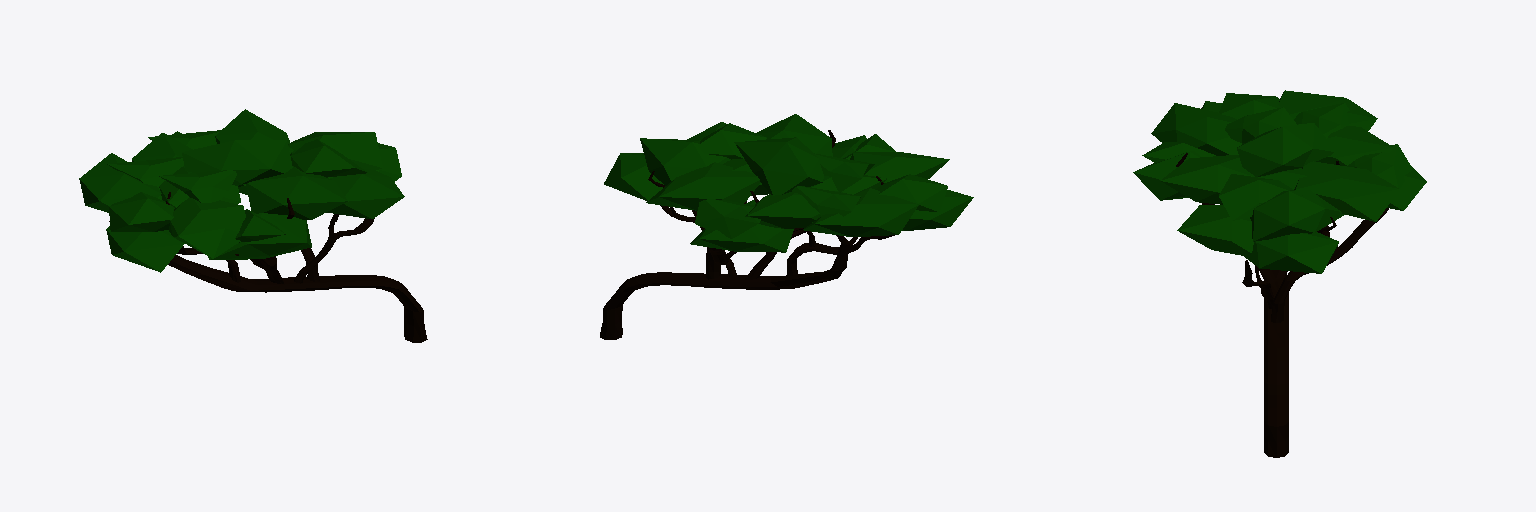
The model's file is tree_model2.obj.
3 renders of one model, left to right at view 1: azimuth 30°, elevation 25°; view 2: azimuth 150°, elevation 25°; view 3: azimuth 270°, elevation 25°, orthographic.
Visible parts, largest first — view 1: Cylinder; view 2: Cylinder; view 3: Cylinder.
Boxes of the visible parts, x1,y1,x2,y2 form: Cylinder: [79, 109, 427, 342]; Cylinder: [600, 114, 973, 339]; Cylinder: [1133, 90, 1426, 457].
Size of the model in its own units: 11.69 by 7.91 by 8.83.